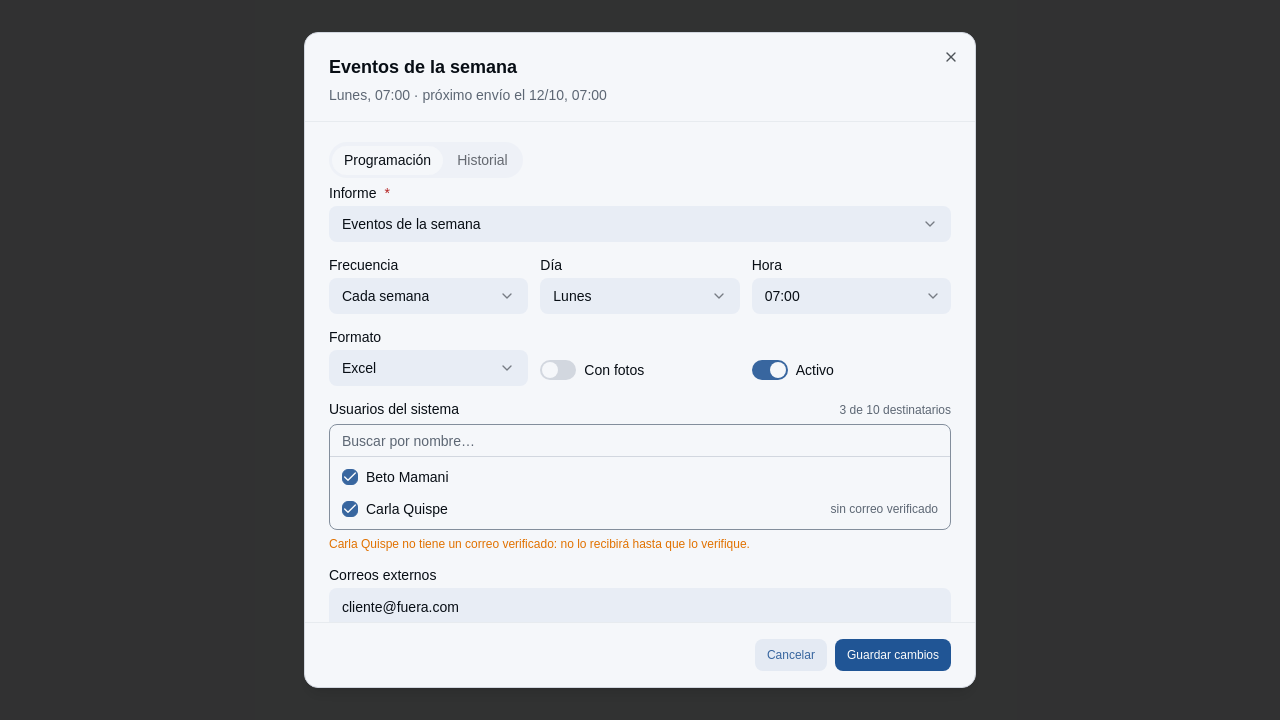
Scenario: the recipients › warns about an account that lost its address after it was added, and lets it be taken off — not put back
Expected: the text "Carla Quispe no tiene un correo verificado" is shown, [329, 537, 750, 551]
Click the checkbox named "Carla Quispe" in the row of "sin correo verificado".
click(350, 509)  # box [342, 501, 358, 517]
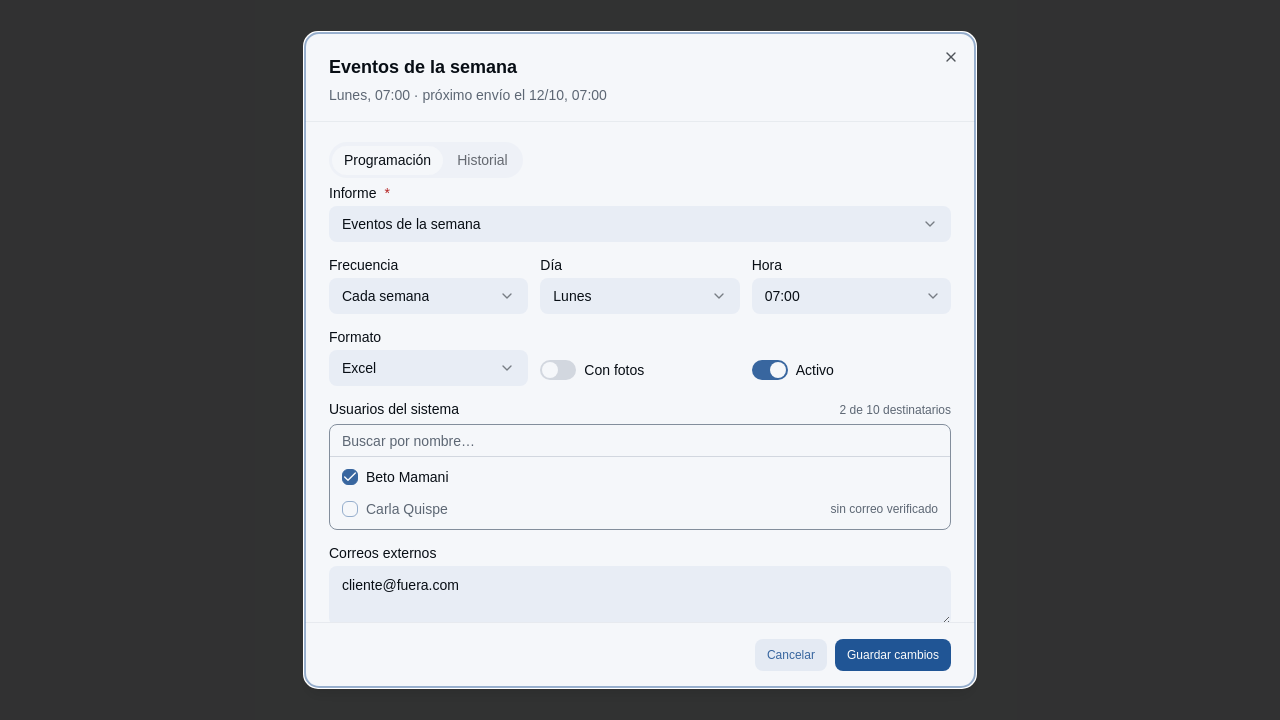
Result: the checkbox named "Carla Quispe" next to "Carla" is not checked at [342, 501, 358, 517]
Result: the checkbox named "Carla Quispe" next to "Carla" is disabled at [342, 501, 358, 517]
Result: the text "Carla Quispe no tiene un correo verificado" is gone
